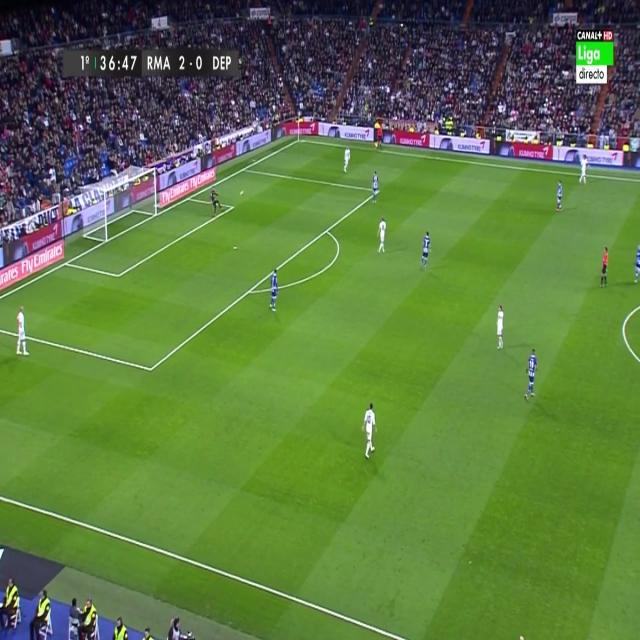Ball: (237, 188, 244, 200)
Goalkeeper: (209, 188, 223, 220)
Player: (521, 344, 540, 403), (361, 401, 377, 461), (14, 305, 30, 357), (494, 302, 507, 352), (269, 267, 281, 316), (419, 230, 432, 269), (376, 215, 388, 257), (576, 152, 589, 187), (370, 170, 380, 206), (554, 179, 564, 215), (342, 145, 353, 177), (632, 244, 640, 287)
Referee: (598, 245, 612, 289), (375, 123, 385, 150)
